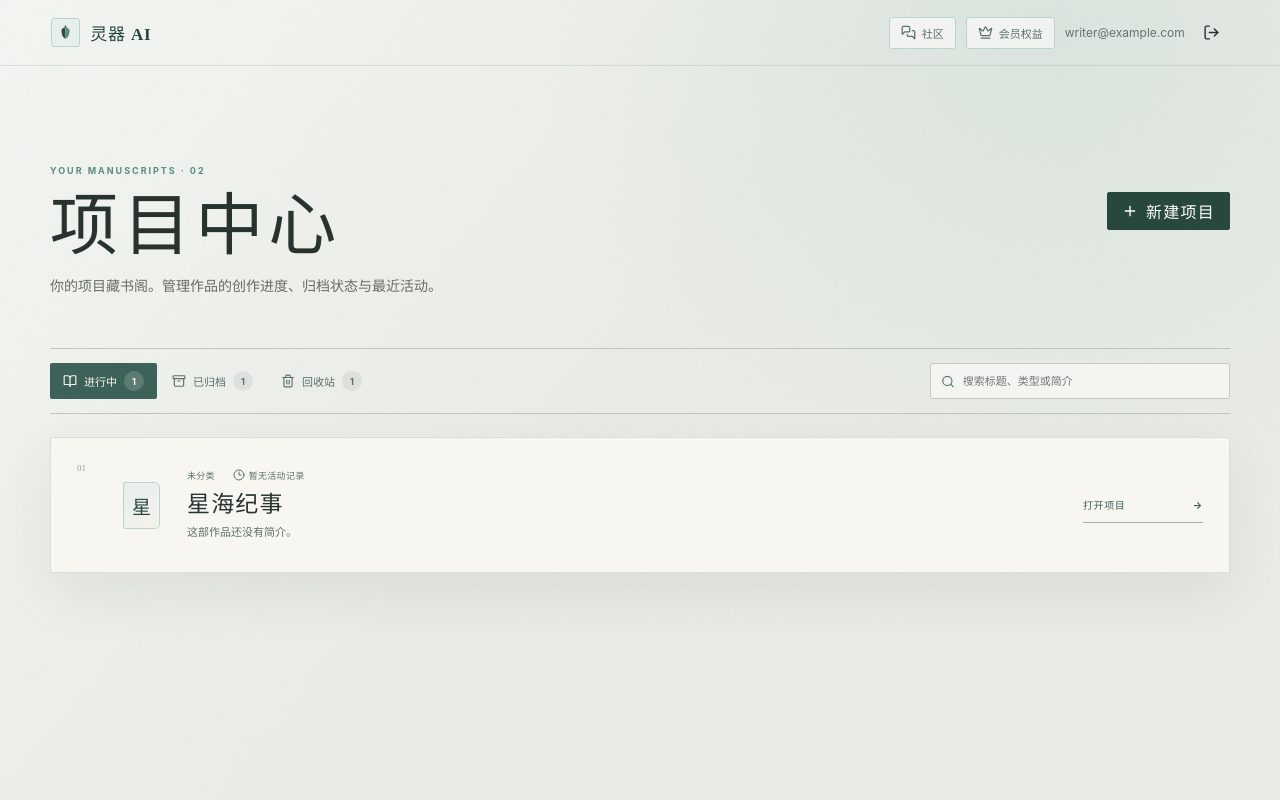
ProjectCenterPage › uses separate lifecycle tabs and filters the current list
The width and height of the screenshot is (1280, 800).
Expected: the heading "星海纪事" is shown, left=187, top=492, right=284, bottom=517
Click the tab "已归档 1" at point(212, 381), box left=159, top=363, right=266, bottom=399
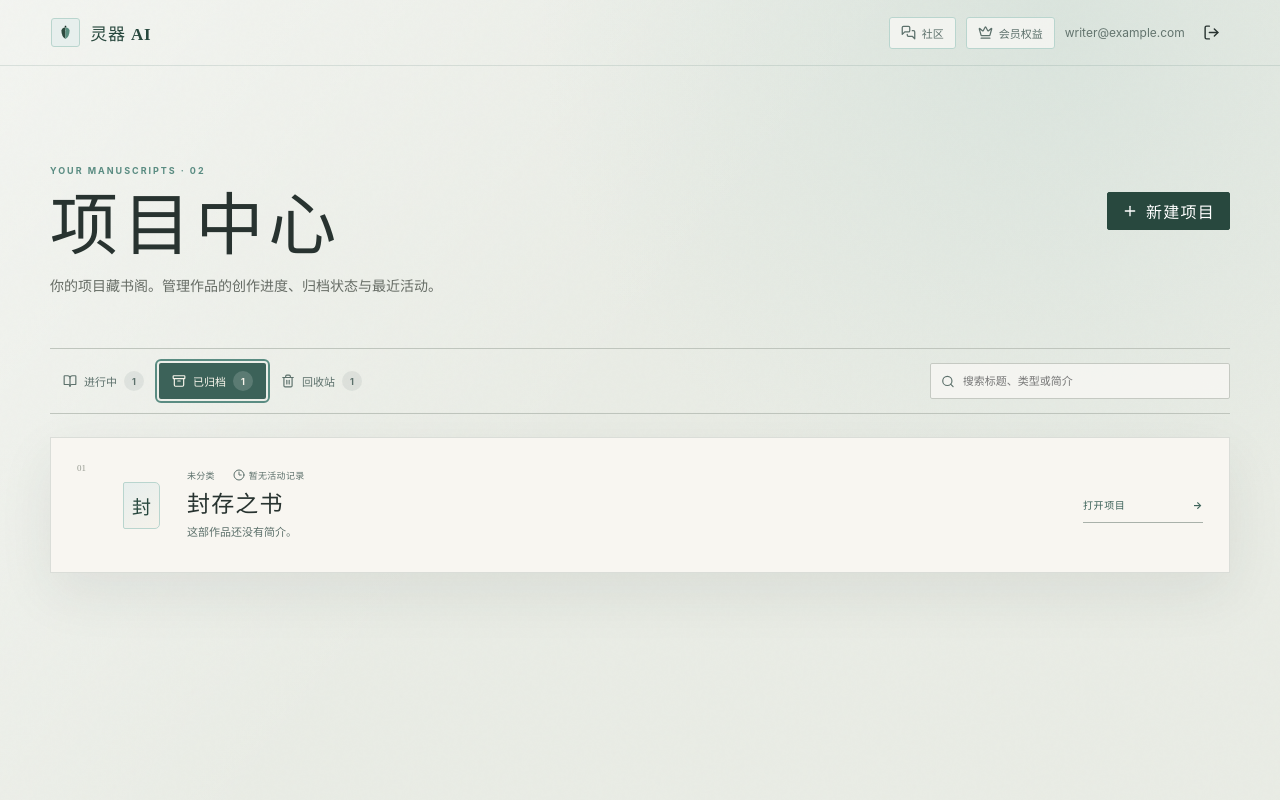
Result: the heading "封存之书" is shown at left=187, top=492, right=284, bottom=517
Type "不存在" into the search field named "搜索项目" at point(1091, 381), box left=963, top=374, right=1219, bottom=388
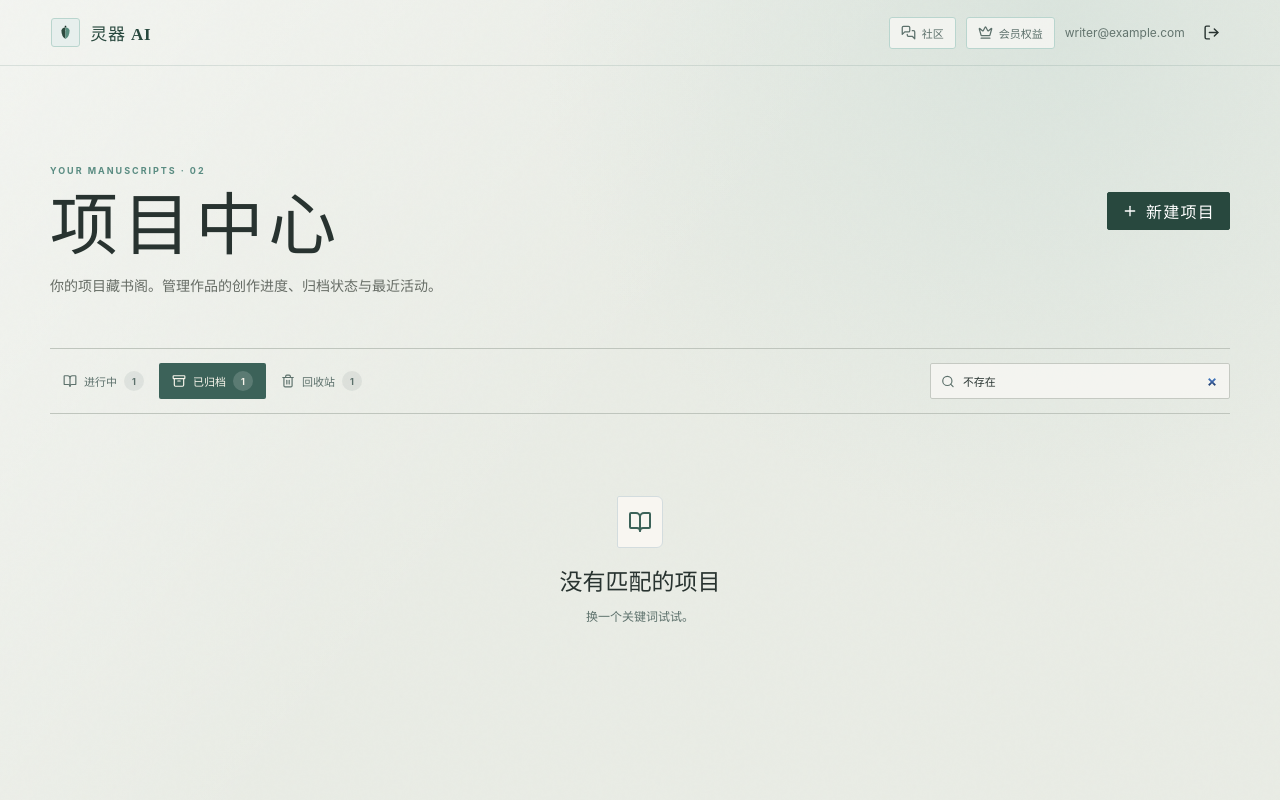
Result: the heading "没有匹配的项目" is shown at left=560, top=562, right=720, bottom=596
